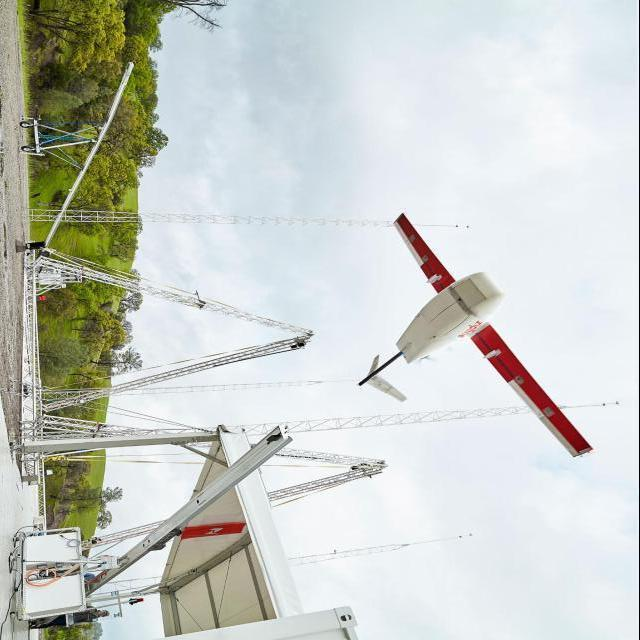iha: (350, 250, 546, 484)
